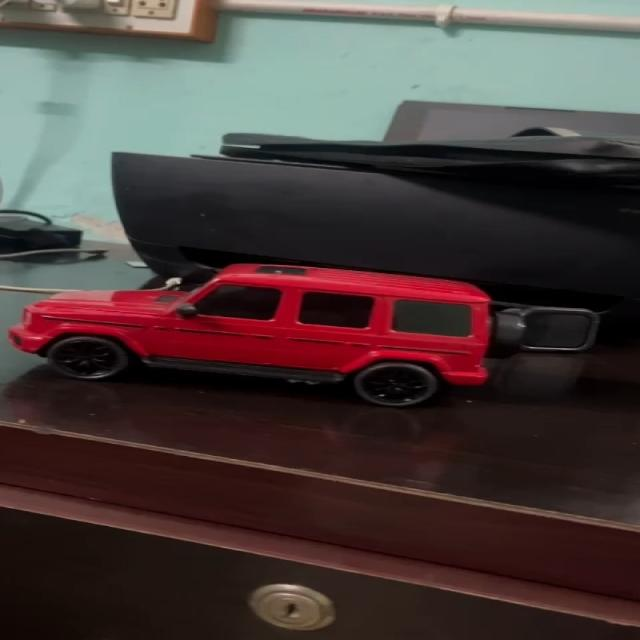light_vehicle: (3, 260, 496, 408)
